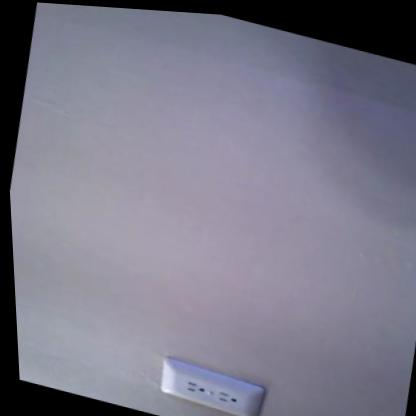OUTLET: (157, 358, 266, 416)
